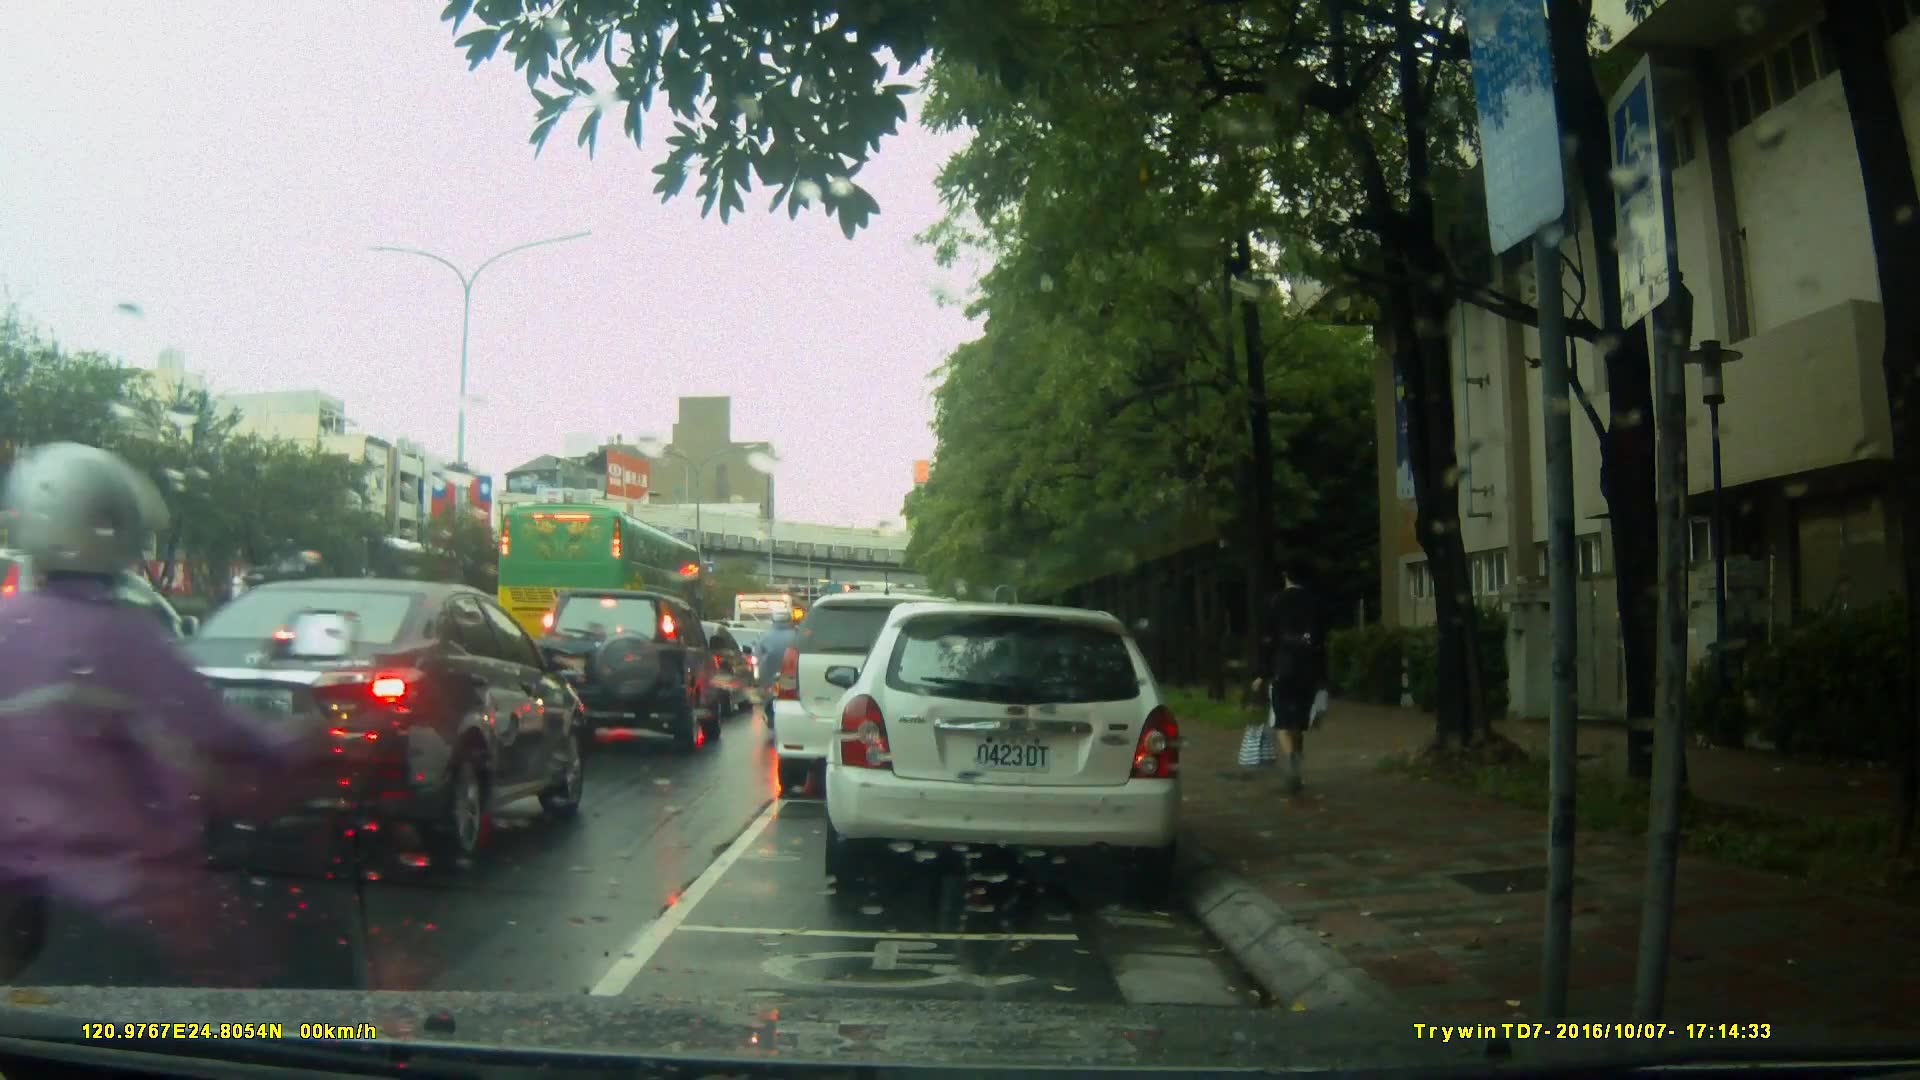pedestrian: (1236, 551, 1346, 804)
rider: (1, 439, 356, 1066), (756, 607, 806, 730)
vehicle: (134, 574, 588, 873), (831, 592, 1196, 897), (770, 592, 999, 799), (5, 554, 232, 748), (531, 585, 727, 751), (493, 500, 707, 652)
